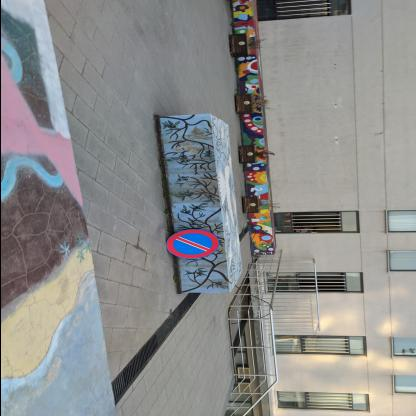No Waiting: (166, 230, 219, 260)
